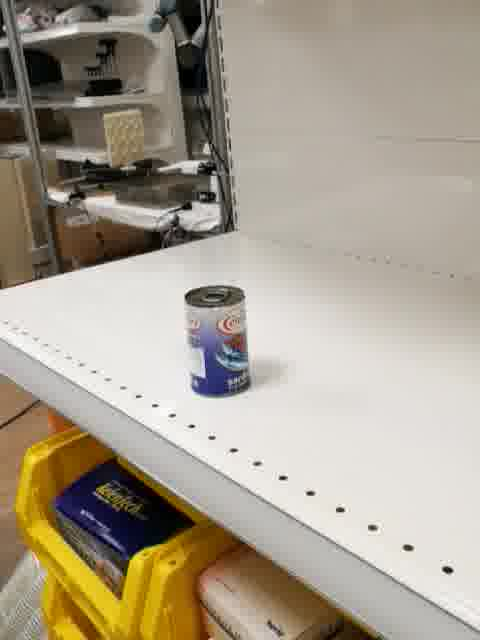sardine: (183, 283, 252, 399)
